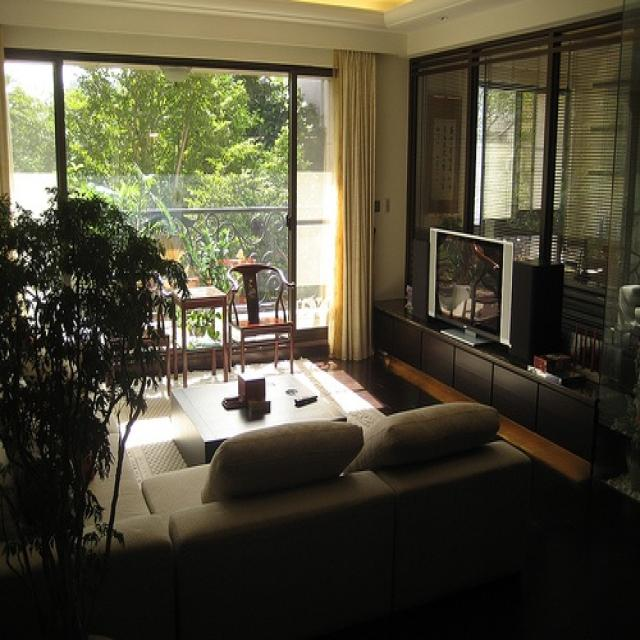chair: (224, 261, 297, 376)
sofa: (5, 399, 545, 623)
tvmonitor: (430, 229, 516, 350)
